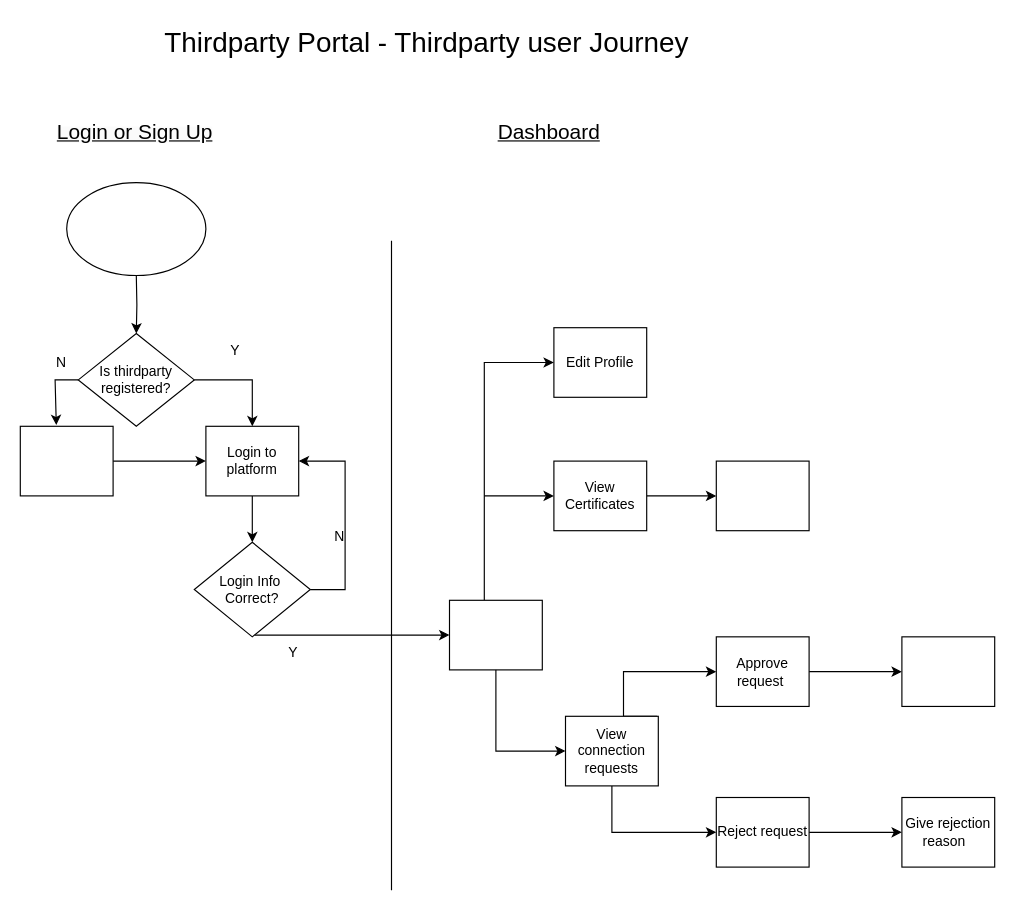
Image size: 1015x912. Some labels were removed from this diagram. The box of each missing label's shape, as (x1, y1, x2, y2) in pixels:
Give permission to view certificate(s): (901, 636, 995, 706)
Register account: (19, 425, 113, 496)
Send certificate to third party email: (715, 460, 809, 531)
Start: (66, 182, 206, 276)
View Dashboard: (448, 599, 542, 670)
